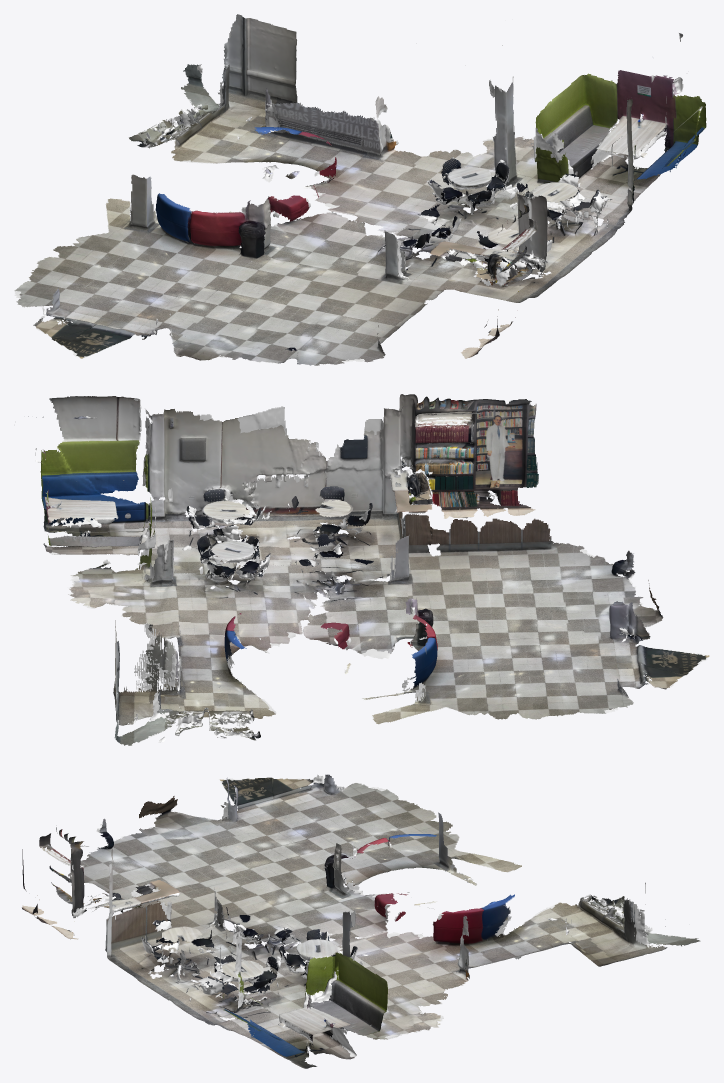
The picture shows the model from 3 angles, top to bottom: view 1: azimuth 30°, elevation 25°; view 2: azimuth 150°, elevation 25°; view 3: azimuth 270°, elevation 25°; orthographic projection. The views are drawn at different scales.
Parts seen in each view (by area): view 1: texture_2, texture_3, texture_5, texture_1, texture_6, texture_7, texture_8, object 5, texture_4, texture_9, texture_0; view 2: texture_8, texture_2, texture_0, texture_5, texture_3, object 5, texture_9, texture_4, texture_7, texture_6, texture_1; view 3: texture_2, texture_3, texture_1, texture_5, texture_6, object 5, texture_7, texture_0, texture_9, texture_4, texture_8.
Part boxes in pixels (box(x1,y1,x2,y2)): texture_2: box(14, 193, 318, 360); texture_3: box(108, 171, 492, 316); texture_5: box(106, 14, 621, 365); texture_1: box(129, 64, 383, 187); texture_6: box(374, 73, 653, 228); texture_7: box(311, 45, 563, 237); texture_8: box(547, 33, 706, 231); object 5: box(14, 27, 702, 363); texture_4: box(368, 173, 567, 321); texture_9: box(430, 173, 635, 287); texture_0: box(397, 193, 568, 358); texture_8: box(28, 396, 316, 552); texture_2: box(334, 587, 709, 720); texture_0: box(272, 394, 538, 569); texture_5: box(113, 419, 649, 733); texture_3: box(190, 535, 524, 724); object 5: box(35, 398, 709, 745); texture_9: box(138, 422, 431, 580); texture_4: box(199, 478, 489, 612); texture_7: box(68, 517, 317, 650); texture_6: box(43, 490, 258, 635); texture_1: box(114, 613, 275, 745); texture_2: box(146, 774, 513, 905); texture_3: box(175, 838, 521, 976); texture_1: box(427, 894, 700, 973); texture_5: box(68, 801, 665, 1023); texture_6: box(216, 937, 464, 1059); object 5: box(32, 775, 686, 1057); texture_7: box(265, 892, 468, 1035); texture_0: box(22, 824, 218, 981); texture_9: box(80, 867, 320, 1038); texture_4: box(133, 892, 338, 1005); texture_8: box(145, 930, 359, 1068).
Bounding box in the file's own units: 15.32 × 3.22 × 14.51.
11 materials, 10 textured.
